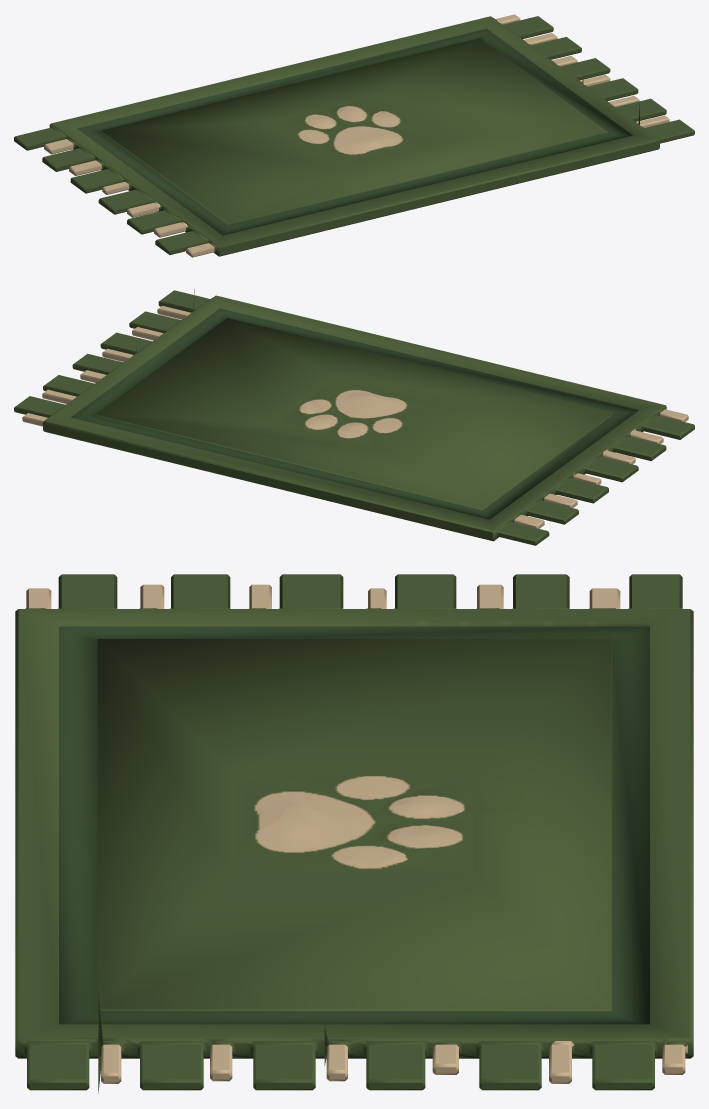
The model's file is Carpet_Green_Paw.fbx.
The picture shows the model from 3 angles, top to bottom: view 1: azimuth 30°, elevation 25°; view 2: azimuth 150°, elevation 25°; view 3: azimuth 270°, elevation 25°; orthographic projection. The views are drawn at different scales.
Parts seen in each view (by area): view 1: Carpet_Green_Paw; view 2: Carpet_Green_Paw; view 3: Carpet_Green_Paw.
Part boxes in pixels (left/top/right/bottom): Carpet_Green_Paw: left=14, top=14, right=694, bottom=257; Carpet_Green_Paw: left=14, top=289, right=694, bottom=545; Carpet_Green_Paw: left=15, top=574, right=693, bottom=1093.
Size of the model in its own units: 3.53 by 0.3322 by 2.
